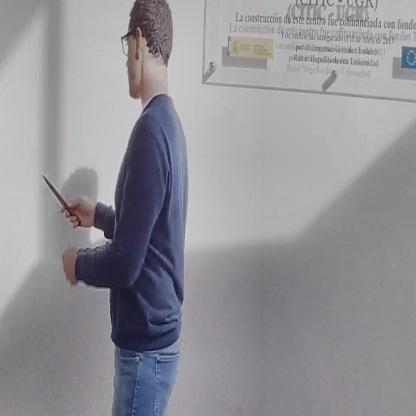knife: (40, 168, 84, 230)
